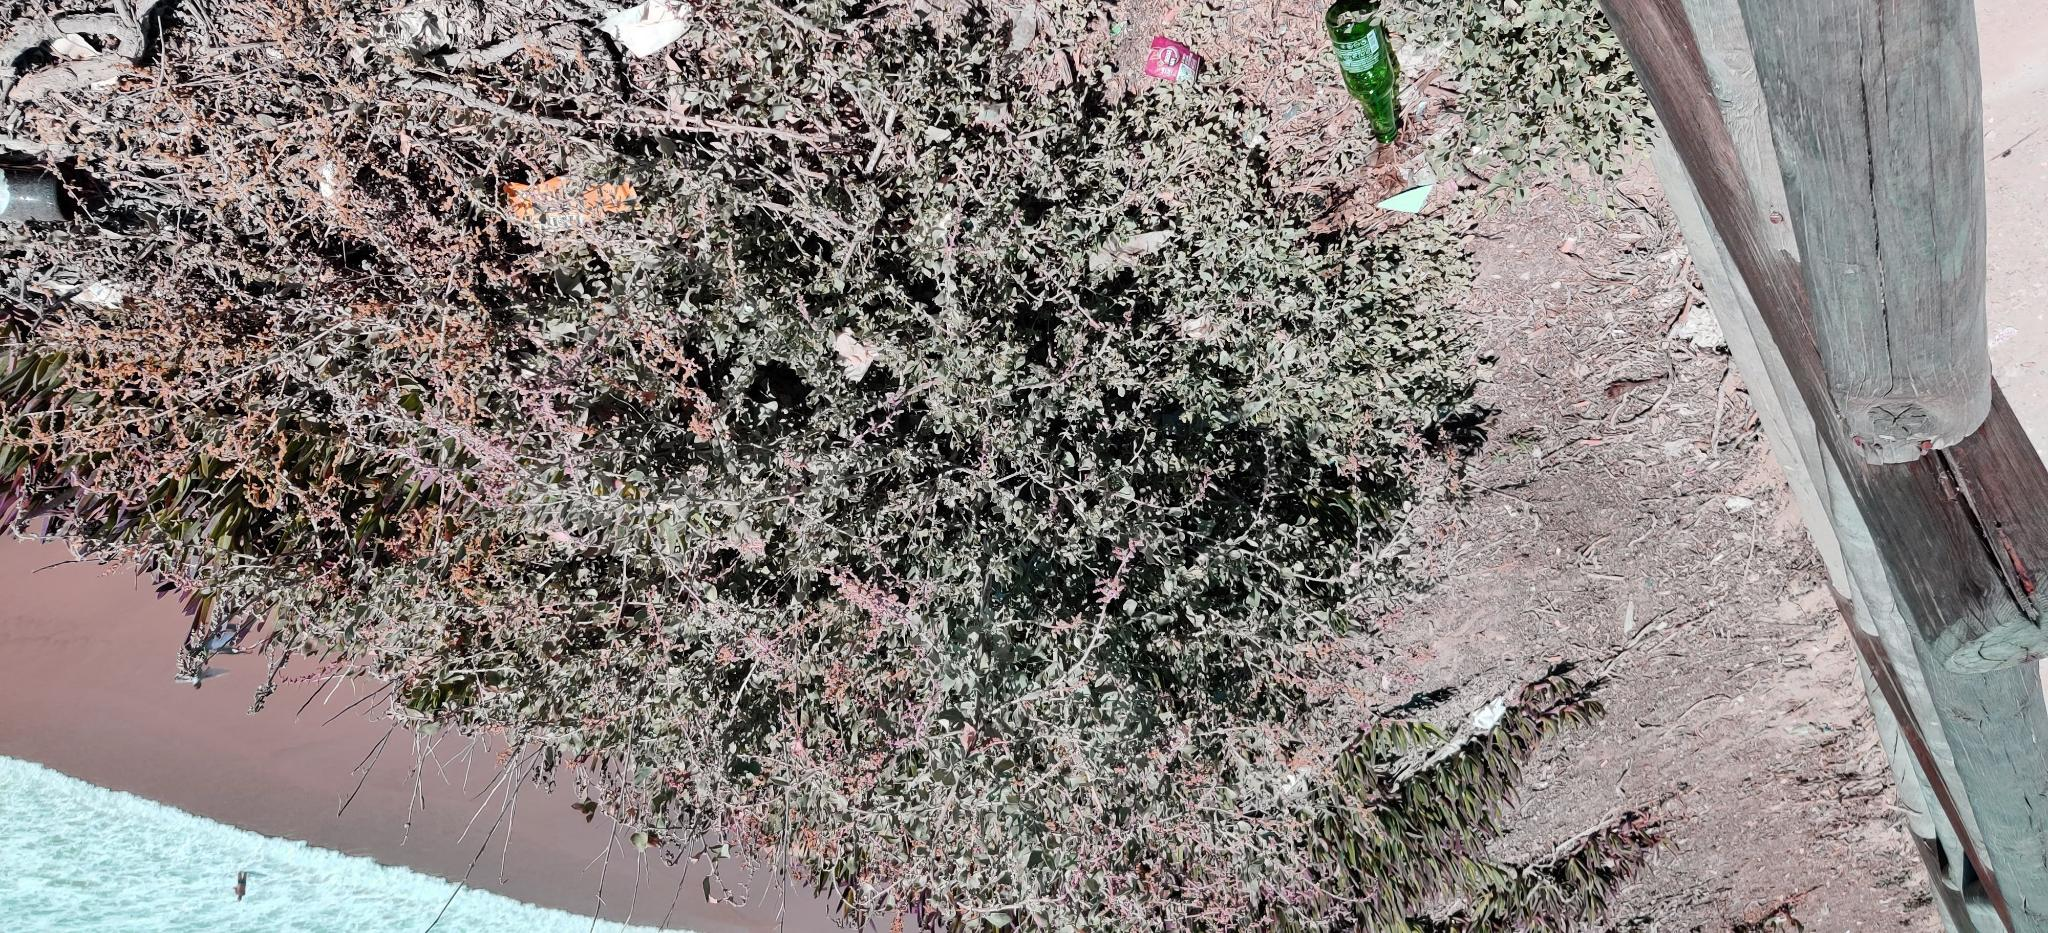Glass: (1307, 0, 1432, 165)
Plastic: (586, 0, 699, 61), (1136, 25, 1220, 85)
